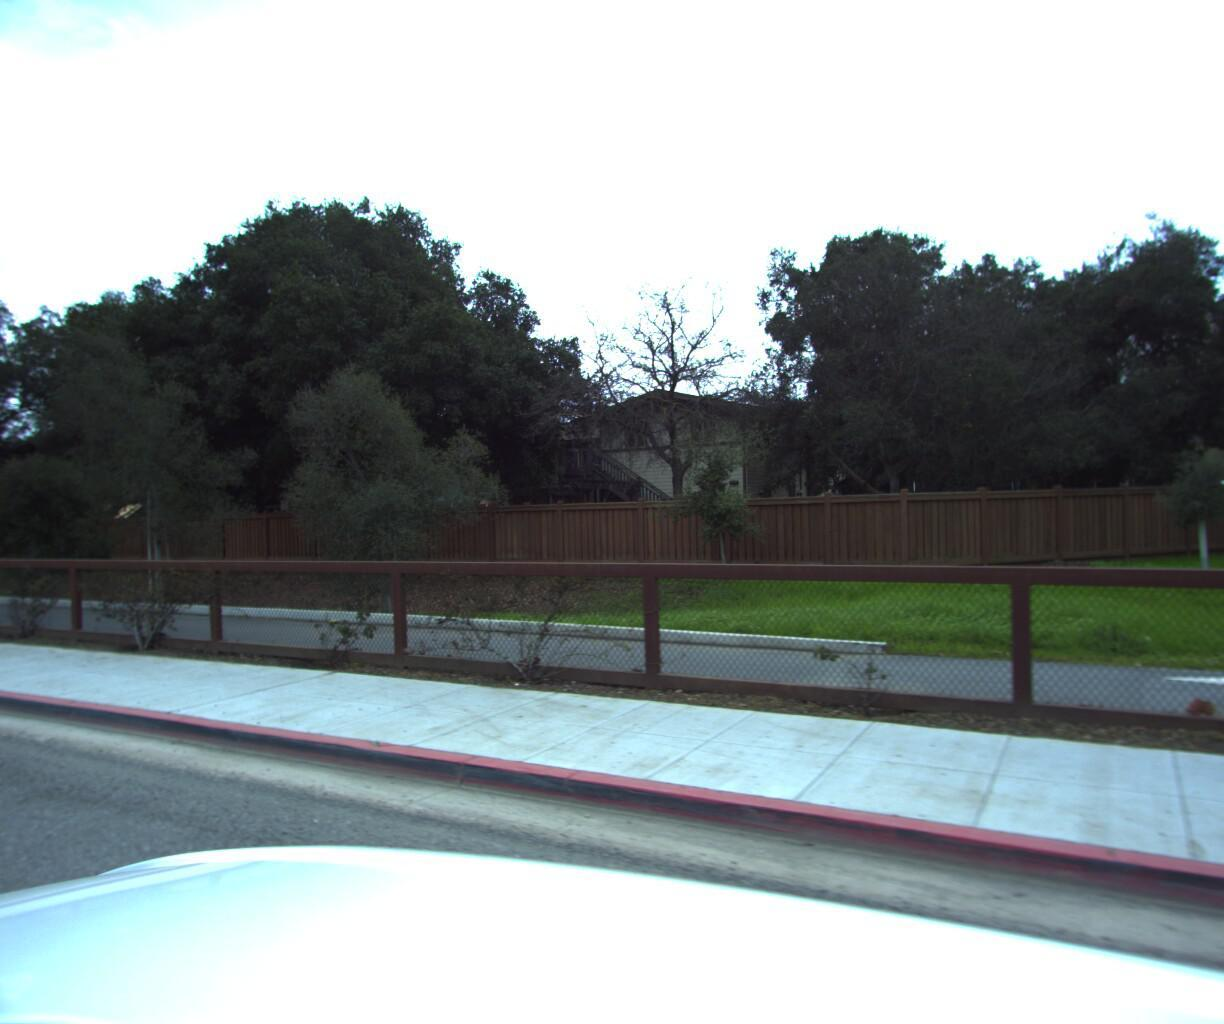car: (1198, 466, 1224, 499)
